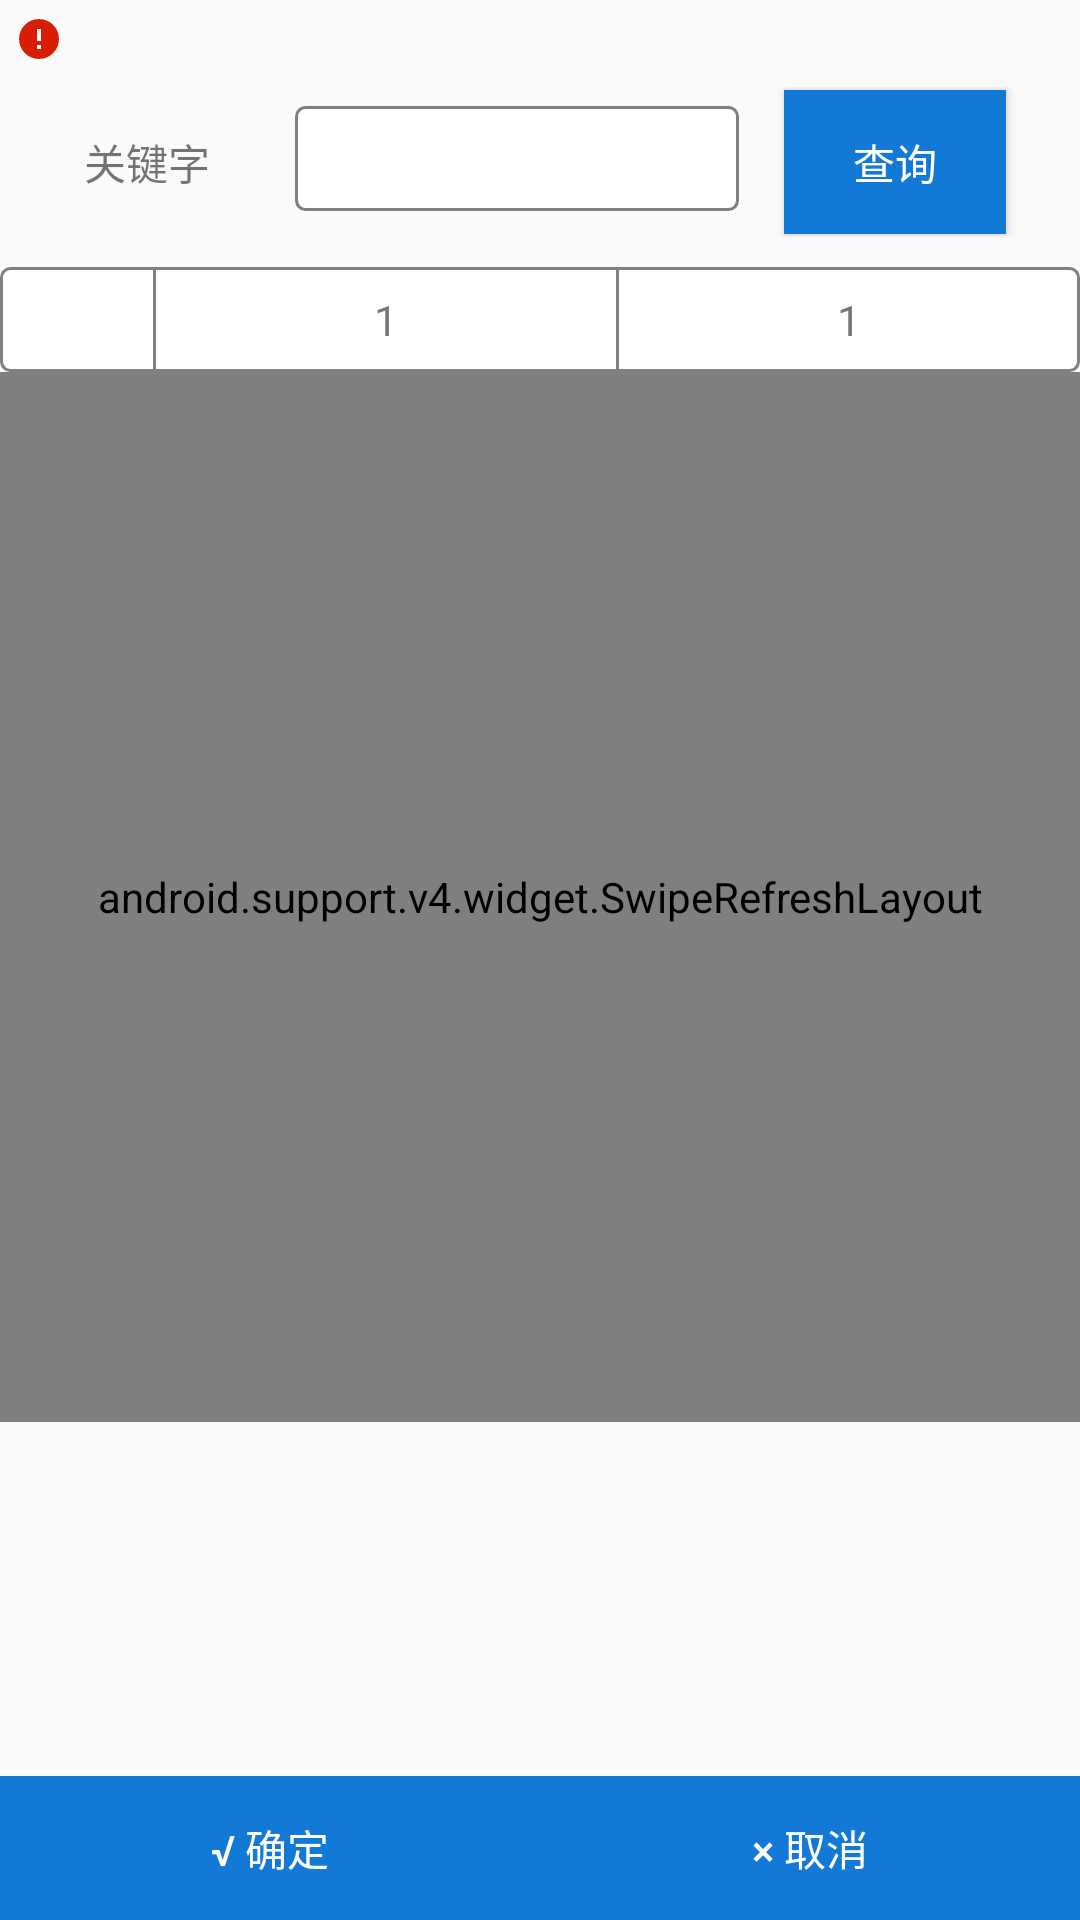

Screen size 1080px×1920px. Icon name, then its center in pixels as [x,y]:
error: [39,39]
